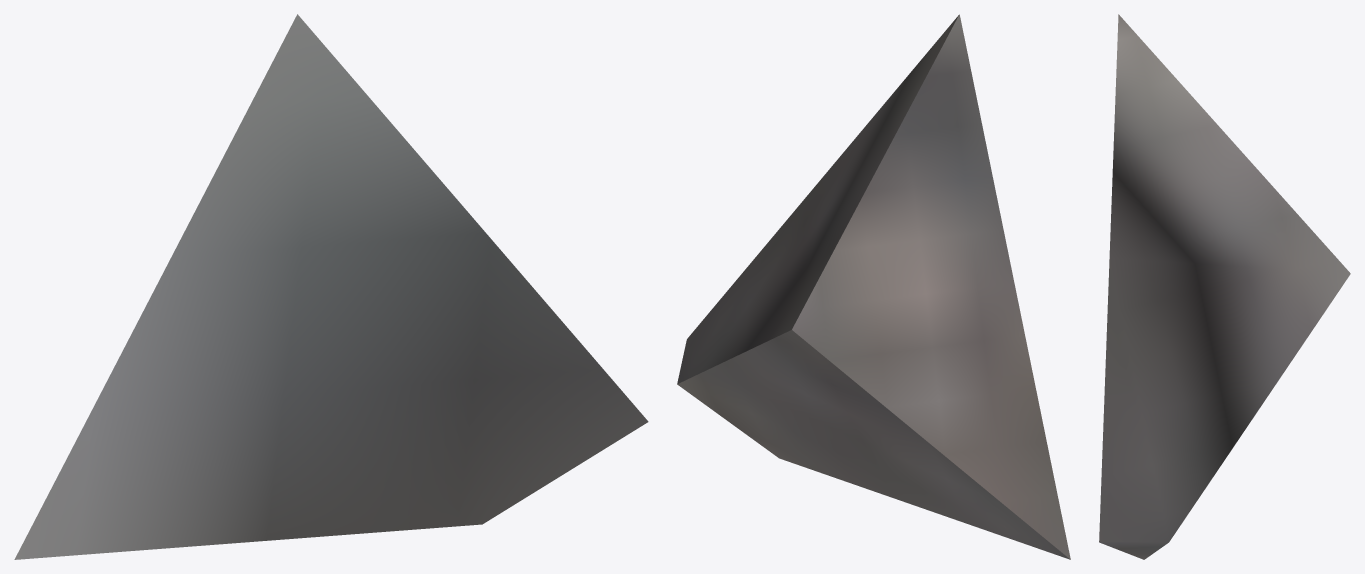
The model's file is Asteroid_Large_001_02_004_03_009.fbx.
3 renders of one model, left to right at view 1: azimuth 30°, elevation 25°; view 2: azimuth 150°, elevation 25°; view 3: azimuth 270°, elevation 25°, orthographic. The views are drawn at different scales.
Visible parts, largest first — view 1: Asteroid_Large_001_02_004_03_009; view 2: Asteroid_Large_001_02_004_03_009; view 3: Asteroid_Large_001_02_004_03_009.
Part boxes in pixels (x1,y1,x2,y2): Asteroid_Large_001_02_004_03_009: (14, 14, 648, 559); Asteroid_Large_001_02_004_03_009: (677, 14, 1070, 559); Asteroid_Large_001_02_004_03_009: (1099, 14, 1350, 559).
Size of the model in its own units: 0.4773 by 0.4755 by 0.2328.
